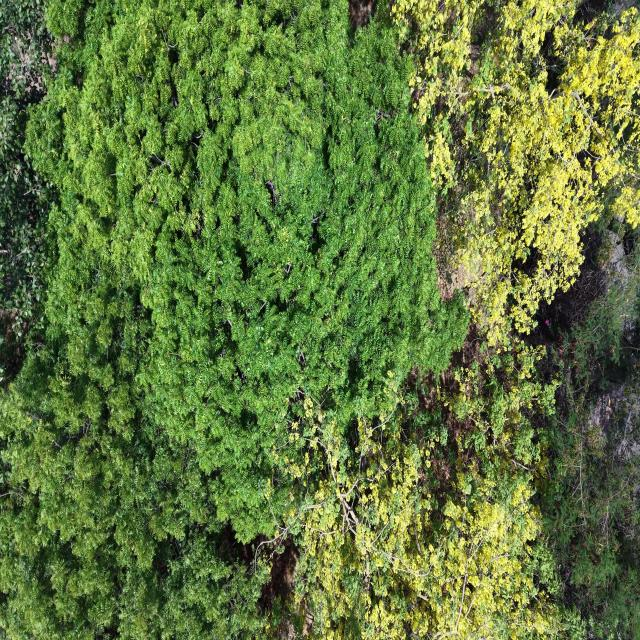VEGETATION_TREE: (0, 0, 639, 639), (0, 2, 466, 638), (28, 3, 466, 541), (392, 0, 639, 345), (287, 376, 562, 638), (539, 225, 639, 638), (0, 0, 55, 386)
